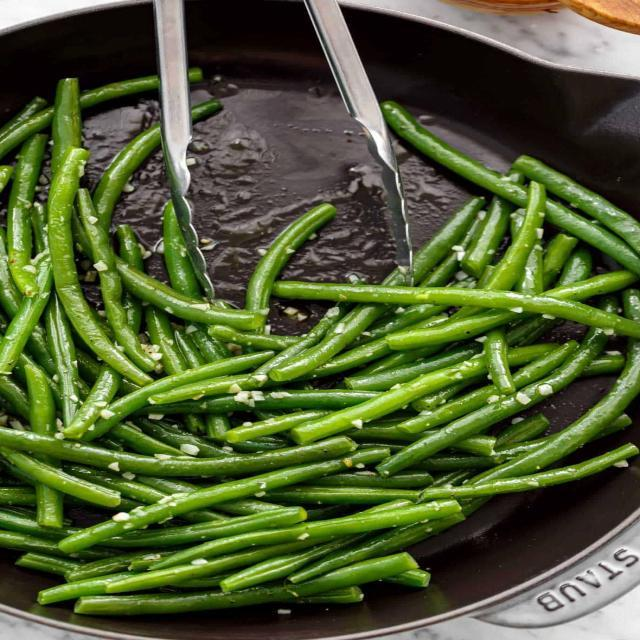Beans: (0, 62, 639, 629)
